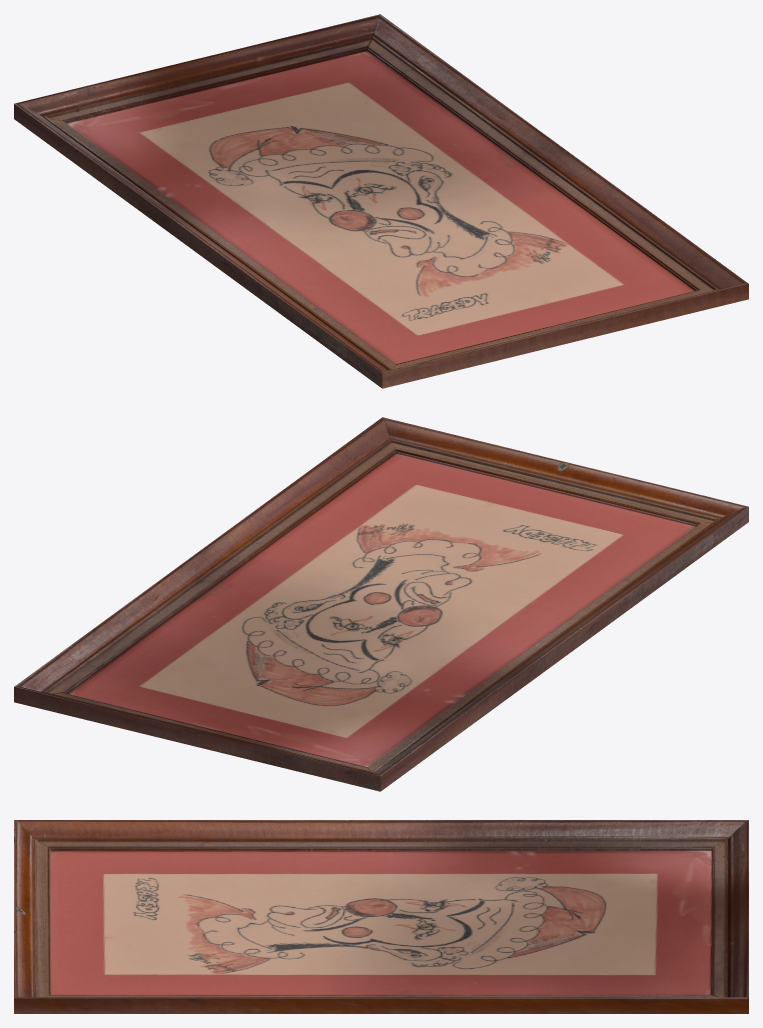
Rendered from frame.obj.
The picture shows the model from 3 angles, top to bottom: view 1: azimuth 30°, elevation 25°; view 2: azimuth 150°, elevation 25°; view 3: azimuth 270°, elevation 25°; orthographic projection.
Visible parts, largest first — view 1: Plane; view 2: Plane; view 3: Plane.
Part boxes in pixels (box(x1,y1,x2,y2)): Plane: box(14, 14, 748, 388); Plane: box(14, 417, 748, 791); Plane: box(14, 820, 748, 1013).
Bounding box in the file's own units: 10.16 × 0.4077 × 17.68.
1 material, 1 textured.
